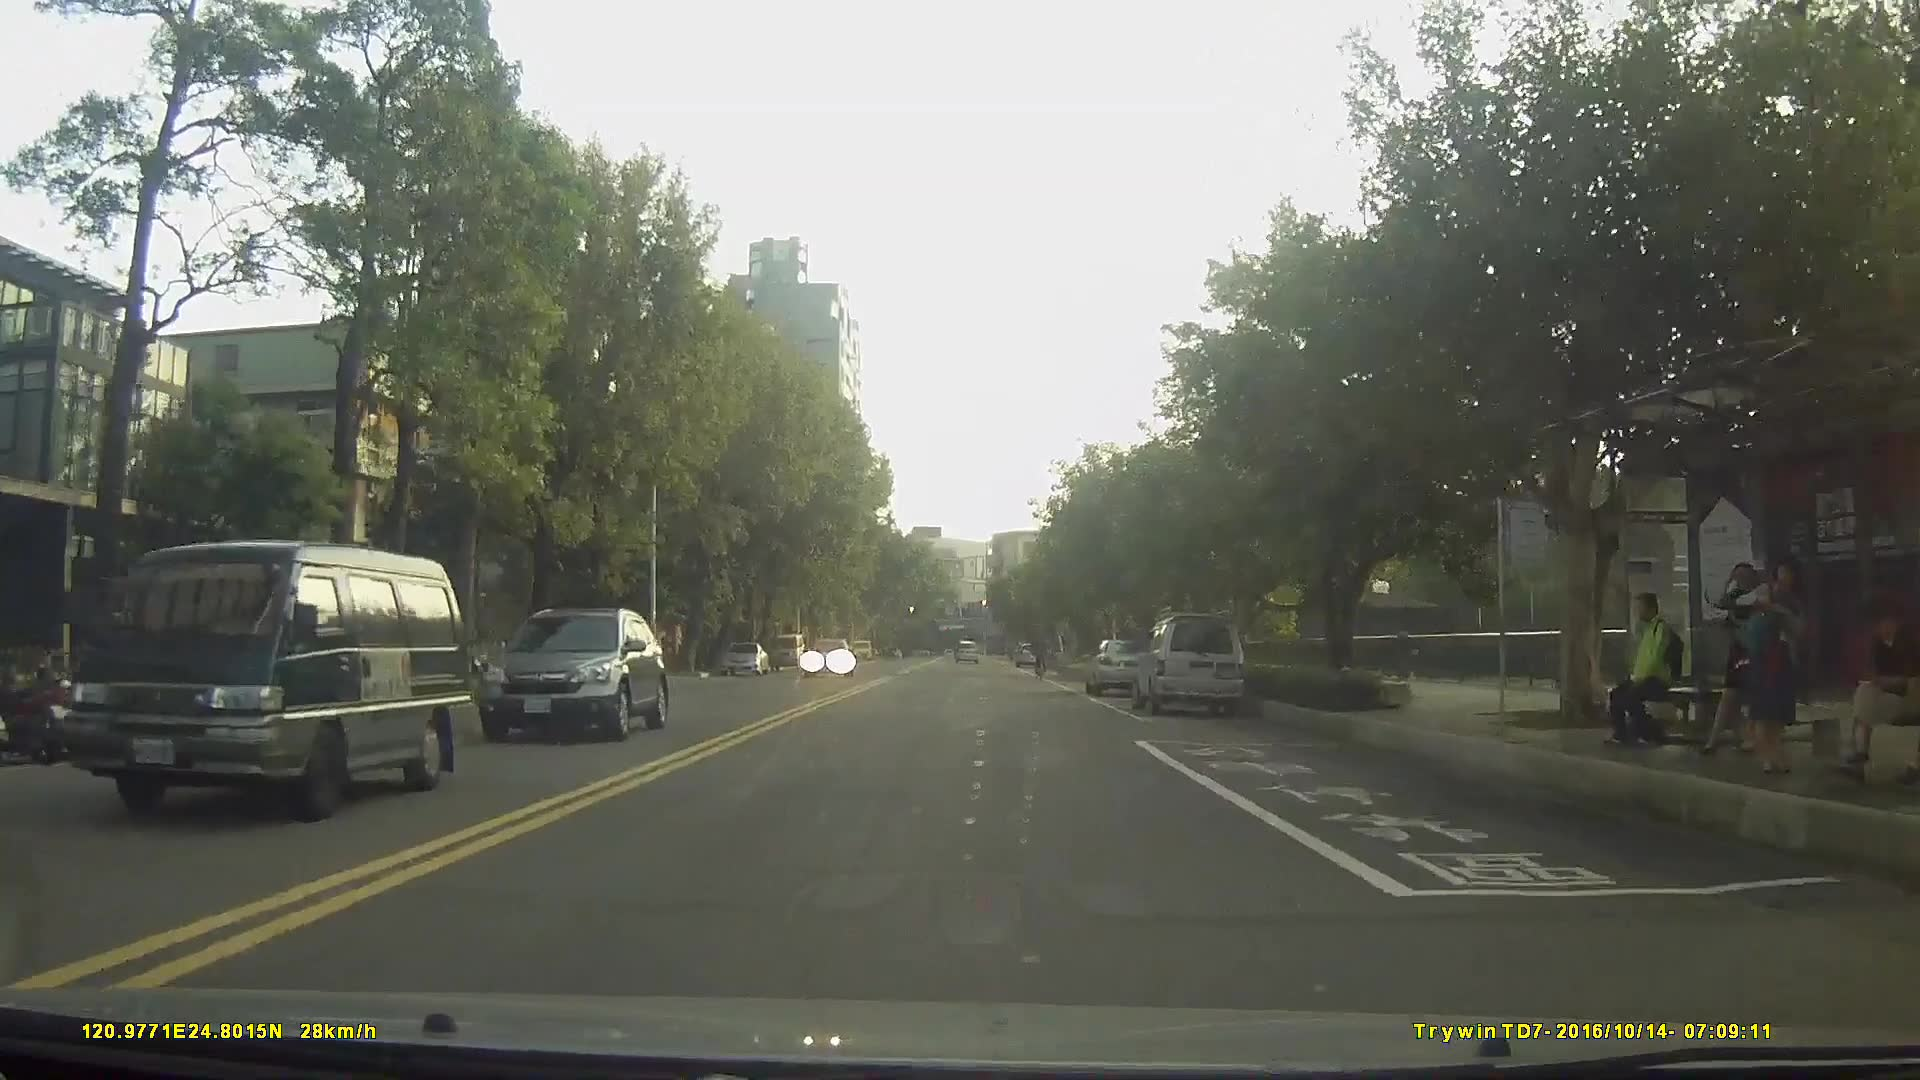pedestrian: (1728, 552, 1804, 781), (1609, 582, 1701, 757), (1843, 602, 1920, 775)
rider: (1031, 632, 1051, 685)
vehicle: (68, 537, 472, 819), (476, 605, 671, 737), (1133, 614, 1248, 716), (1086, 635, 1152, 694), (800, 636, 851, 679), (720, 638, 767, 676), (769, 629, 804, 672), (953, 636, 980, 666), (1015, 641, 1042, 668)
